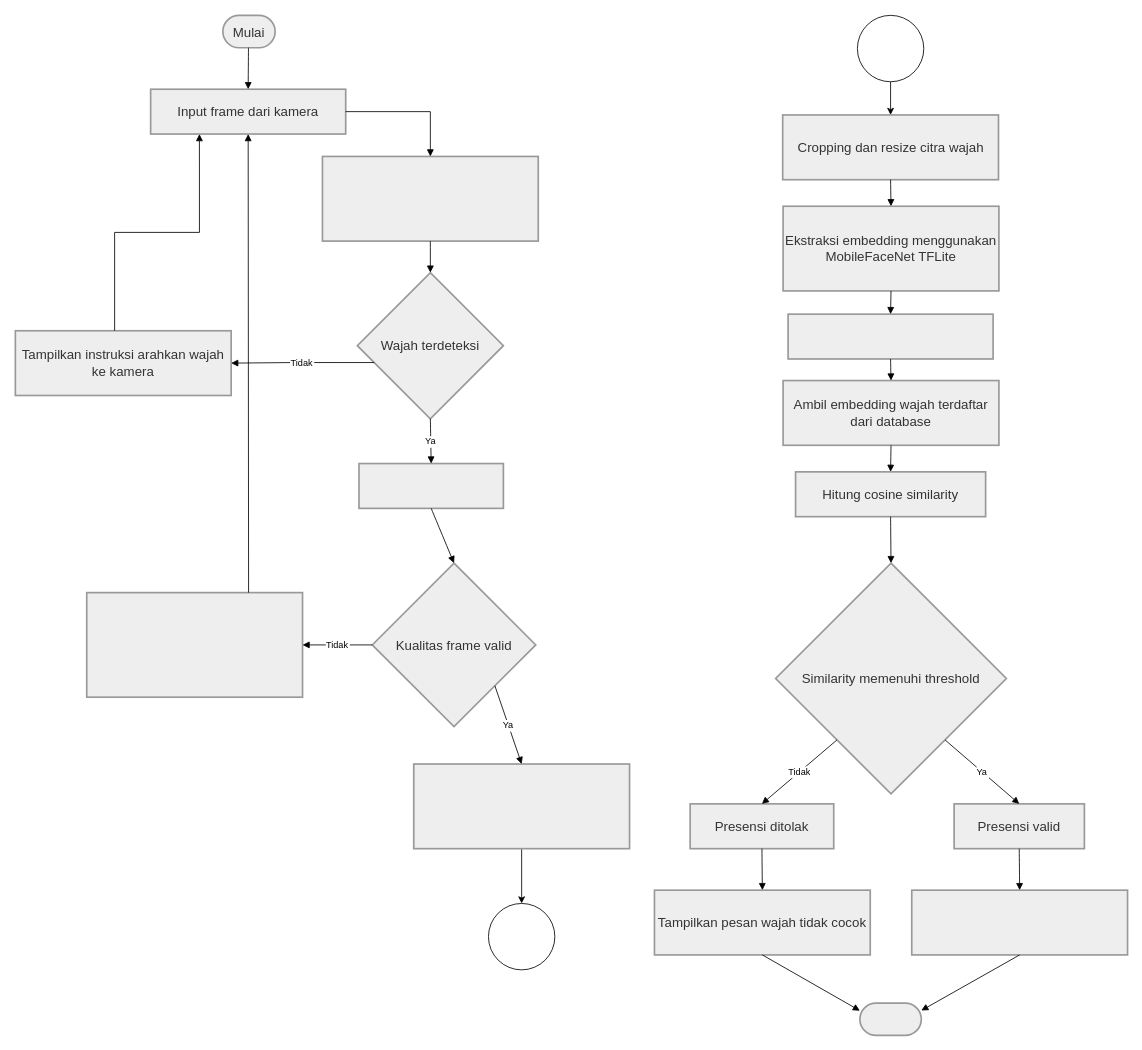
Some shapes in this 1142 by 1050 pixel diagram are drawn without their labels. The centre of each missing label's shape, as x and y in pixels:
"Deteksi wajah menggunakan Google ML Kit" goes at point 430,198.
"Face alignment berdasarkan landmark mata" goes at point 521,806.
"Normalisasi L2 embedding" goes at point 890,336.
"Quality filtering" goes at point 431,485.
"Selesai" goes at point 890,1019.
"Simpan data check in atau check out" goes at point 1019,922.
"Tolak frame karena wajah terlalu kecil blur gelap terang atau pose tidak sesuai" goes at point 194,644.
